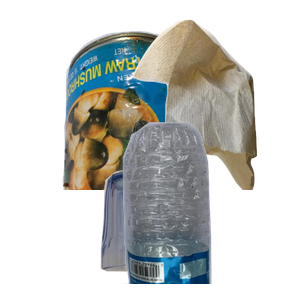glass: (98, 168, 251, 300)
metal: (60, 28, 300, 208)
plastic: (111, 120, 300, 300)
trash: (131, 17, 300, 197)
